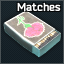Classic matches: (0, 0, 64, 64)
